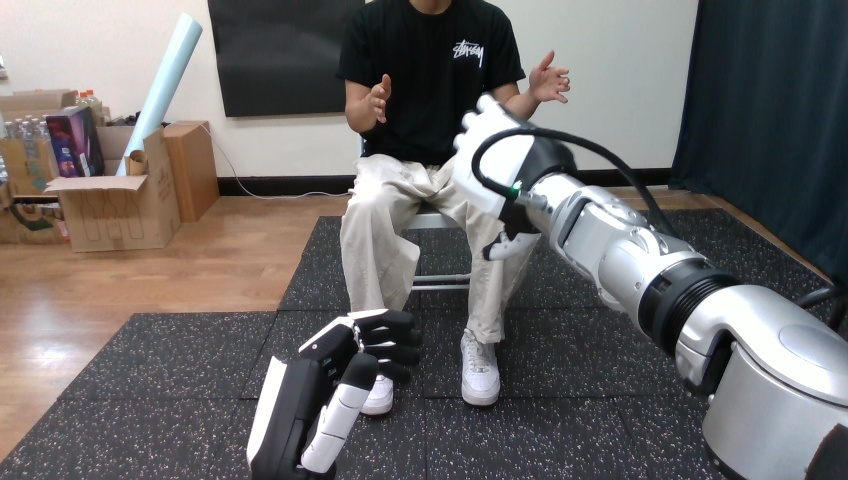left robot hand: (453, 94, 847, 478), (247, 309, 420, 478)
